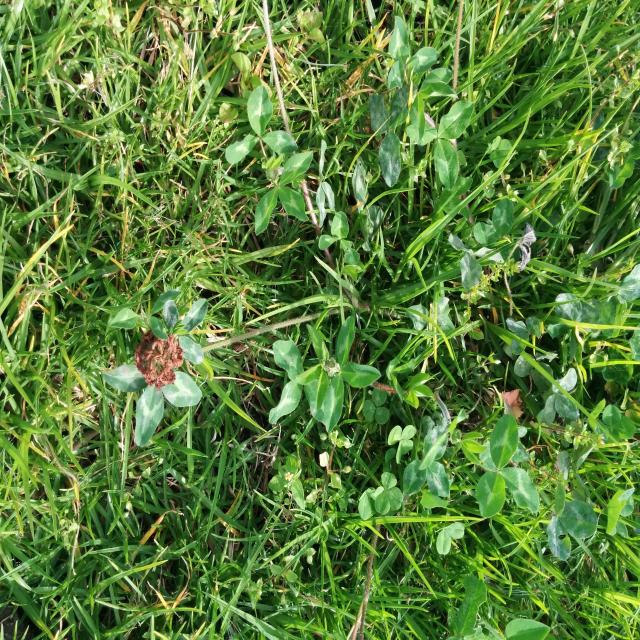Four Leaf Clover: (376, 472, 402, 515)
